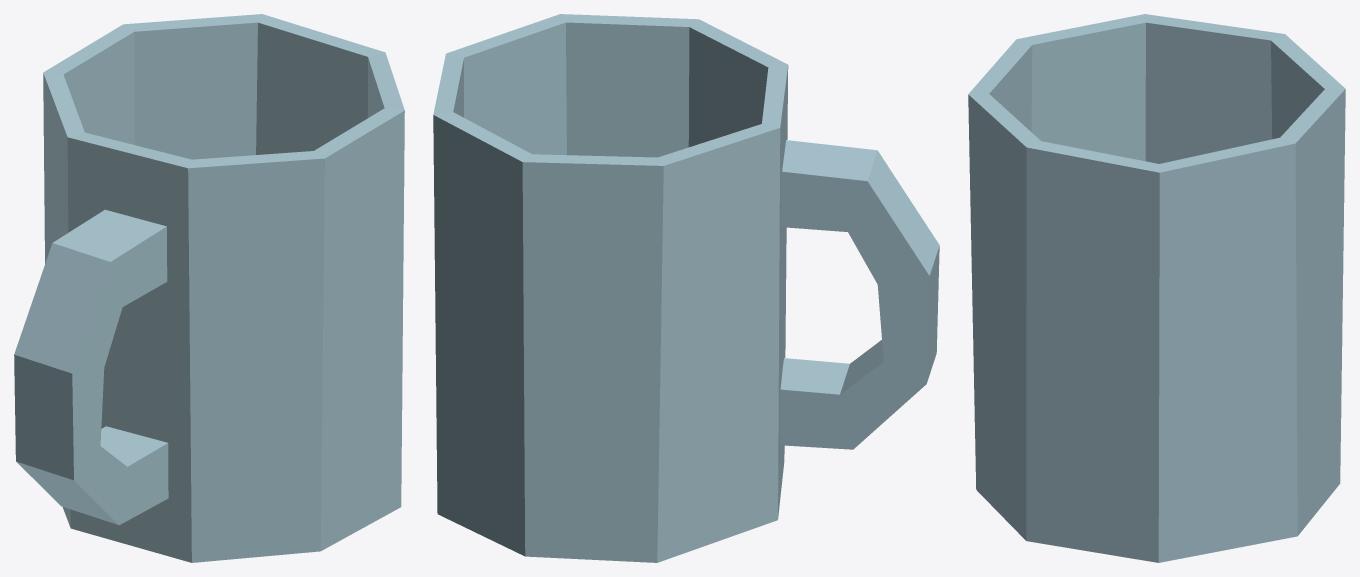
Rendered from Cup_4.fbx.
3 views of the same model, side by side, from view 1: azimuth 30°, elevation 25°; view 2: azimuth 150°, elevation 25°; view 3: azimuth 270°, elevation 25° (orthographic).
Parts seen in each view (by area): view 1: Cup_4; view 2: Cup_4; view 3: Cup_4.
Part boxes in pixels (x1,y1,x2,y2): Cup_4: [14, 14, 404, 562]; Cup_4: [433, 14, 939, 562]; Cup_4: [968, 14, 1345, 562].
Bounding box in the file's own units: 23.85 × 18.29 × 21.52.
